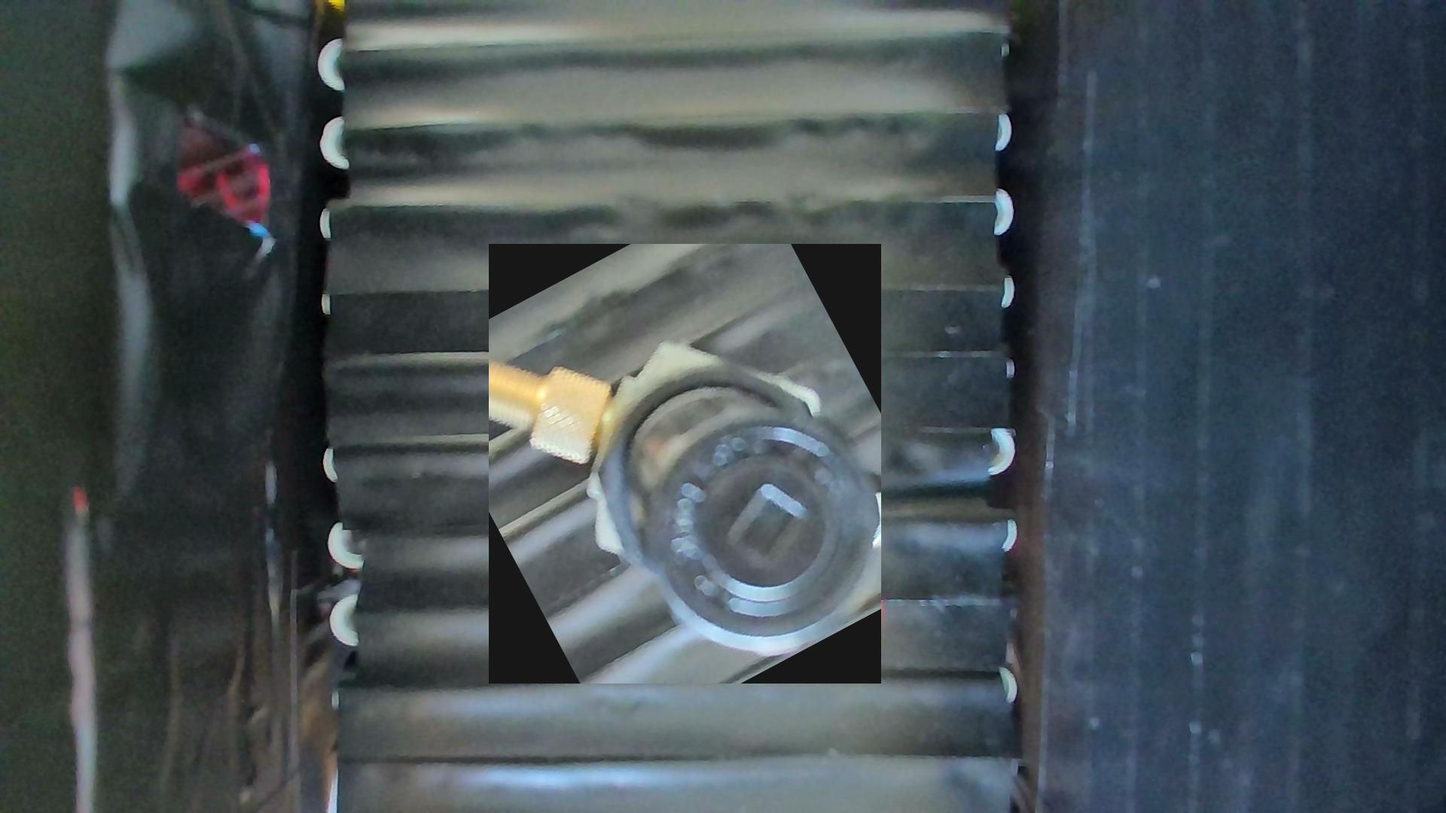regulator: (489, 244, 881, 684)
